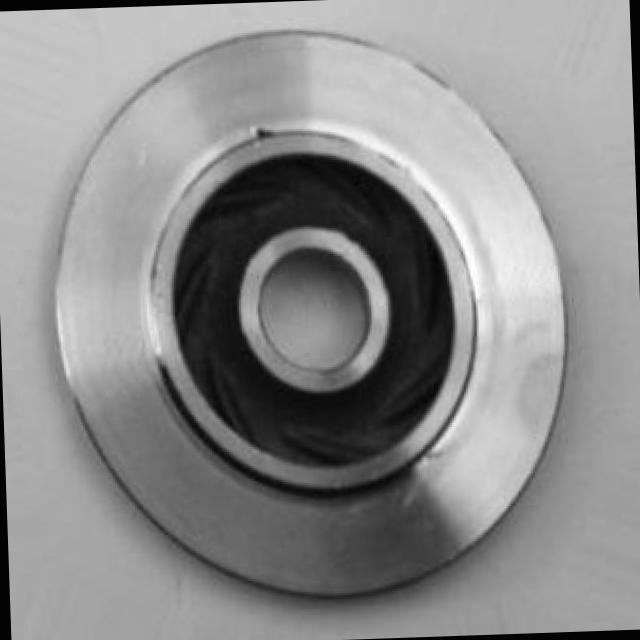Defect: (241, 118, 282, 152)
